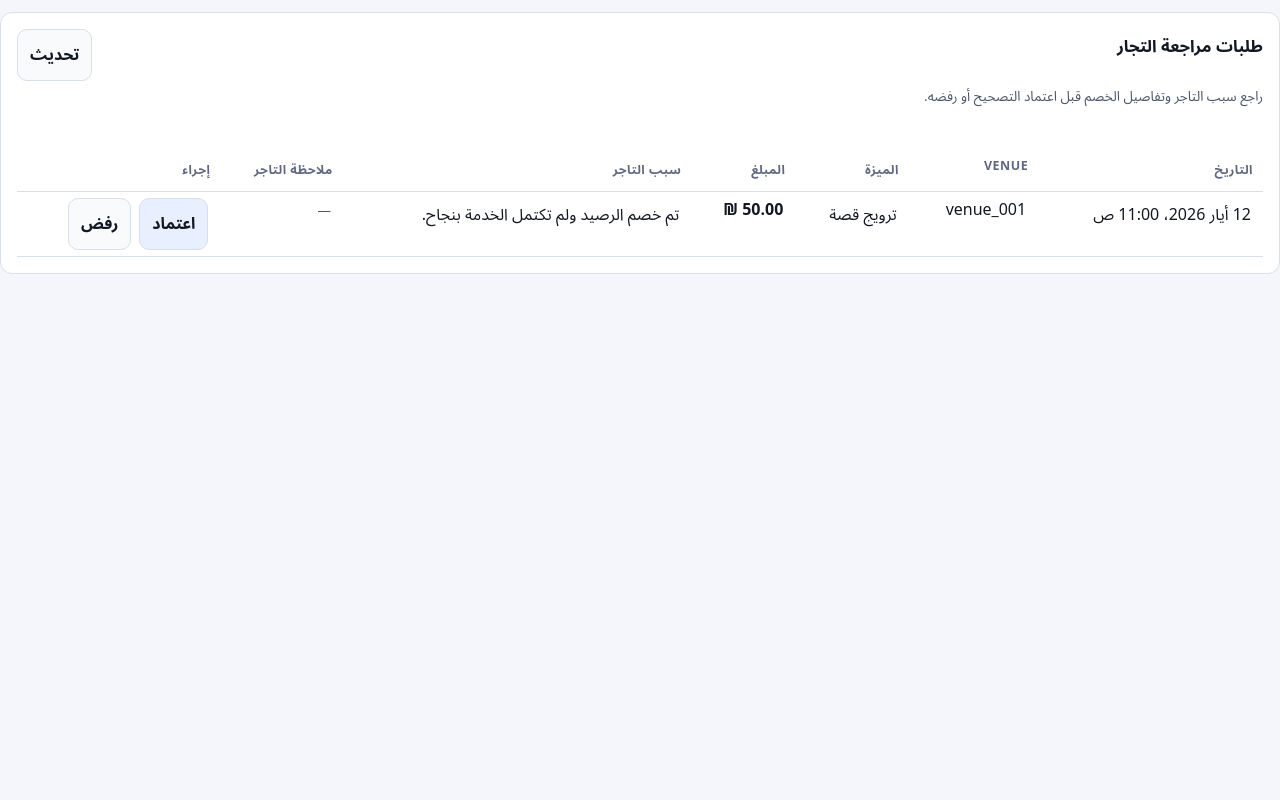
Test case: MerchantReversalReviewContainer › keeps the modal open and shows an error when the callable fails
The width and height of the screenshot is (1280, 800).
Click the button with aria-label "اعتماد طلب مراجعة merchant_review_entry_001" at (174, 224), box [139,198,208,250]
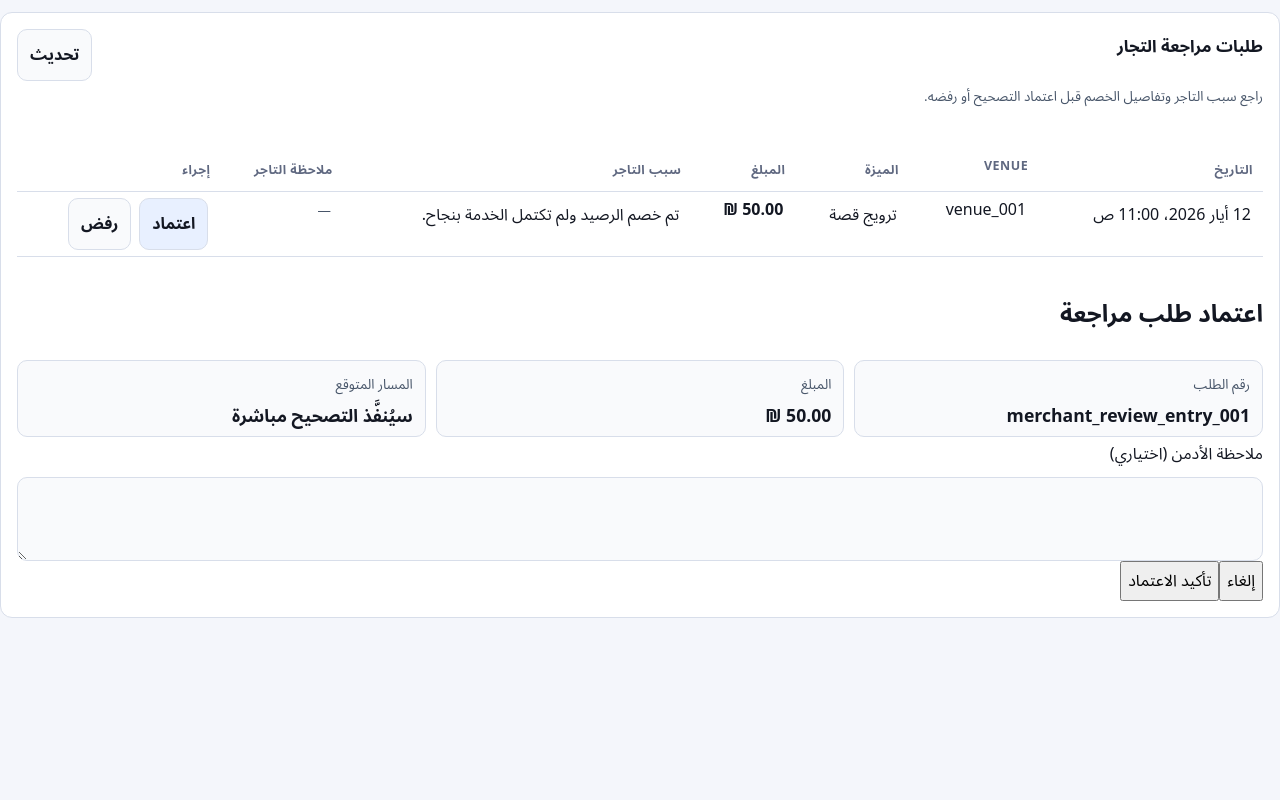
Click the button with aria-label "تأكيد اعتماد طلب التاجر" at (1170, 581), box [1120,561,1219,601]
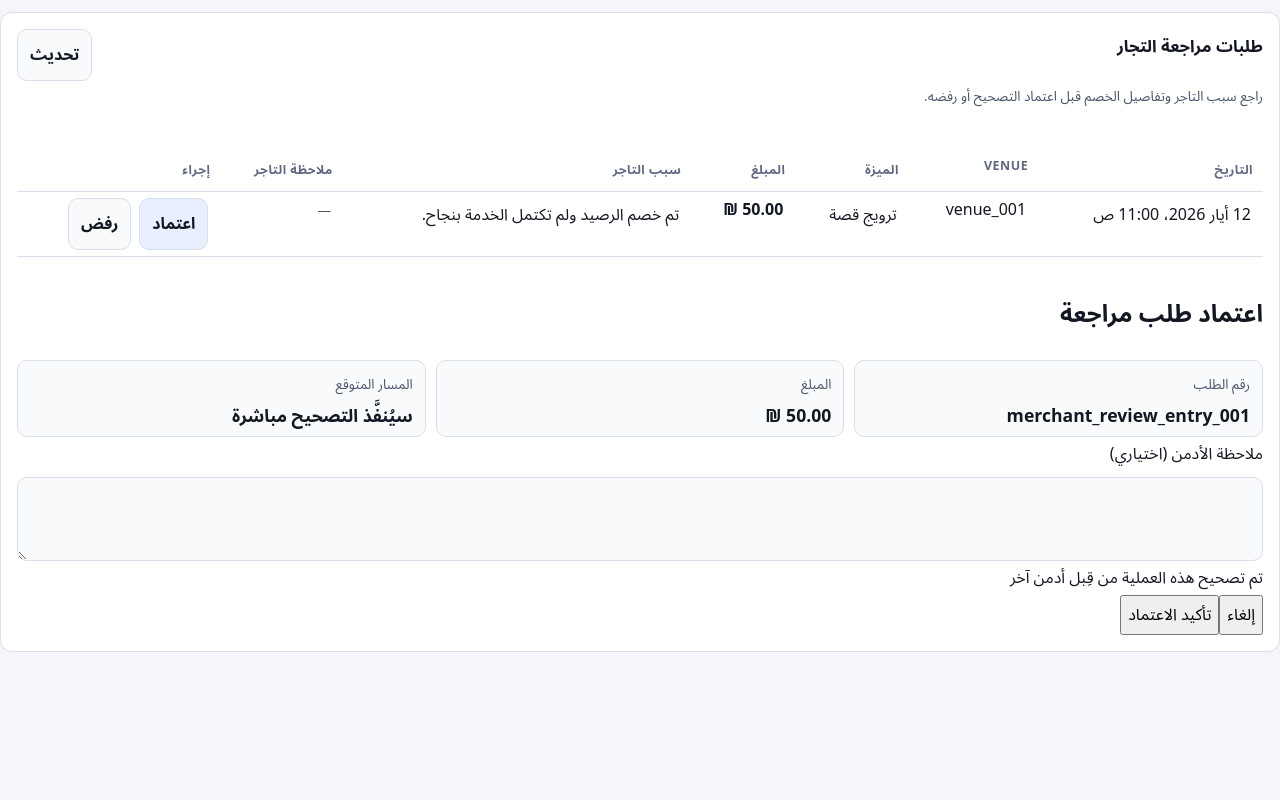
Now the dialog is shown, box [17,289,1263,635]
Now the text "تم تصحيح هذه العملية من قِبل أدمن آخر" is shown, box [1010,566,1263,588]
